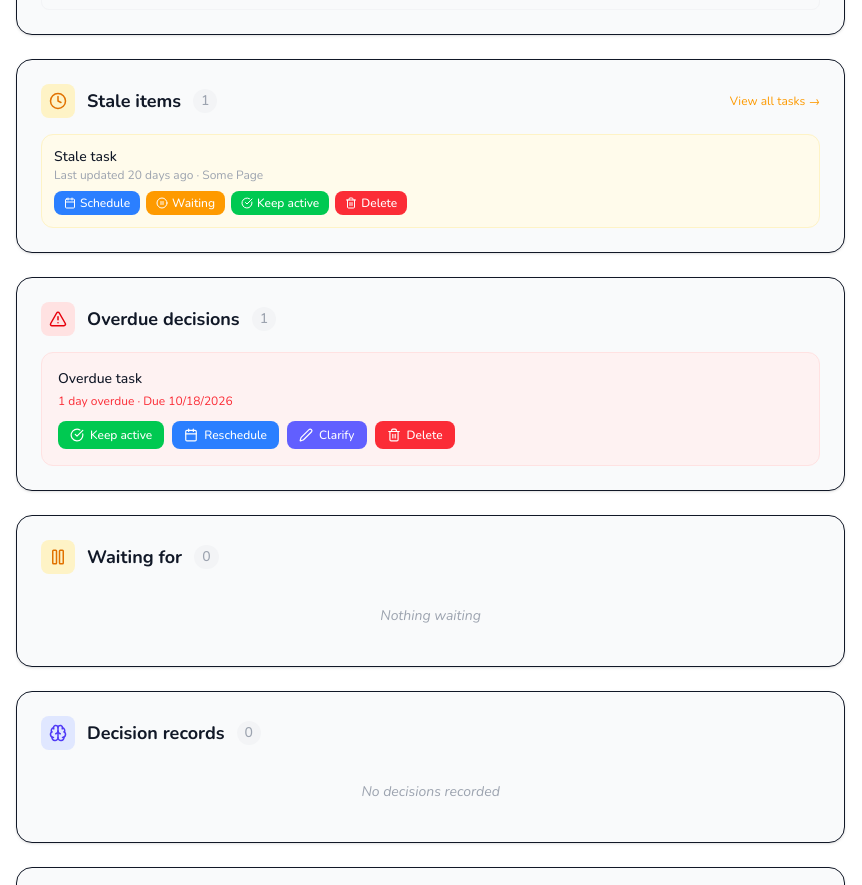
Test: WeeklyReview › dismisses overdue item when keep active is clicked
This screenshot has width=862, height=885.
(page scrolled)
Click the button "Keep active" below "· Due 10/18/2026". click: [111, 435]
box: [58,421,164,449]
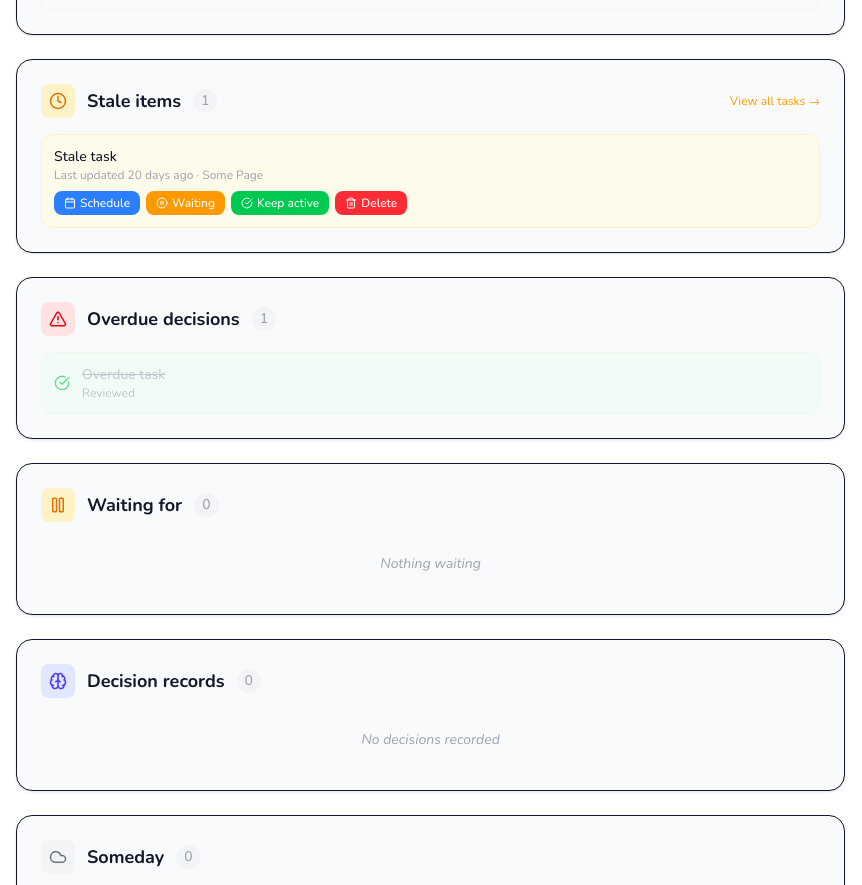
Expected: the text "Reviewed" is shown, [82,385,135,401]
